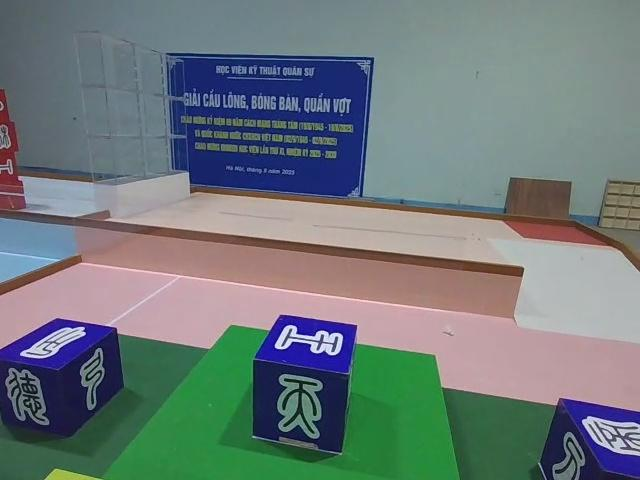R2 Fake Blue: (0, 311, 125, 440), (249, 312, 361, 454), (536, 399, 638, 479)
